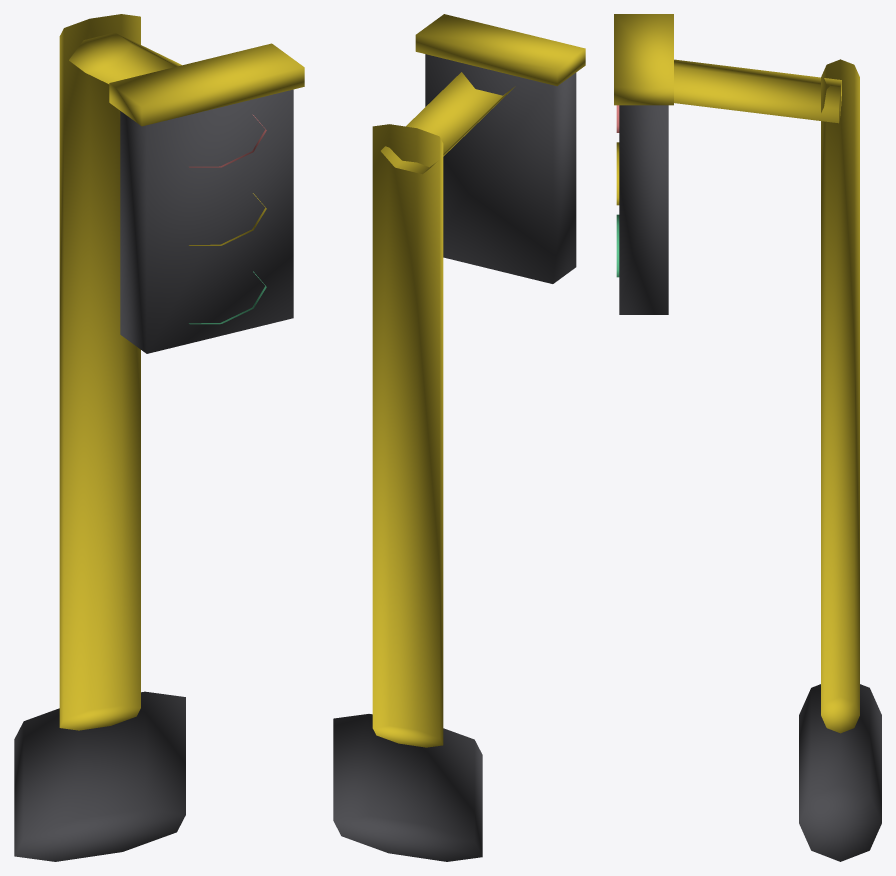
The model's file is traffic-signal.glb.
3 renders of one model, left to right at view 1: azimuth 30°, elevation 25°; view 2: azimuth 150°, elevation 25°; view 3: azimuth 270°, elevation 25°, orthographic. The views are drawn at different scales.
Parts seen in each view (by area): view 1: world; view 2: world; view 3: world.
Part boxes in pixels (<box>): world: <box>14,14,304,861</box>; world: <box>333,14,585,861</box>; world: <box>614,14,881,861</box>.
Size of the model in its own units: 1.5 by 7 by 2.2.
